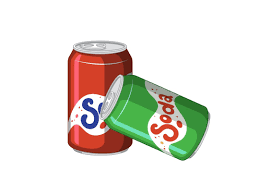can: (66, 38, 214, 166)
